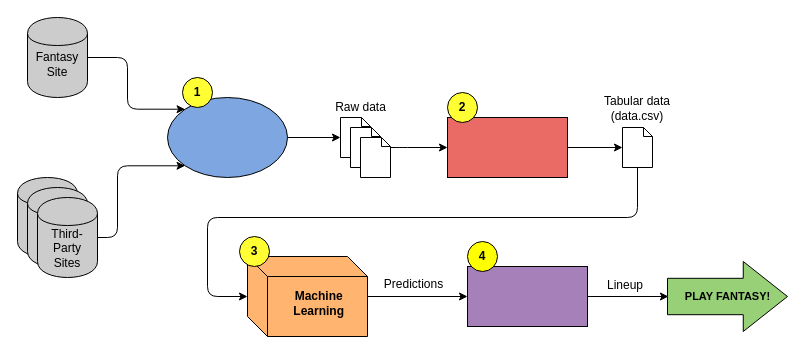
Some shapes in this 805 by 362 pixel diagram are drawn without their labels. Each missing label, with the centre of its shape:
"Assimilator" goes at (x=507, y=147).
"Downloader" goes at (x=227, y=137).
"Lineup Generator" goes at (x=527, y=296).
